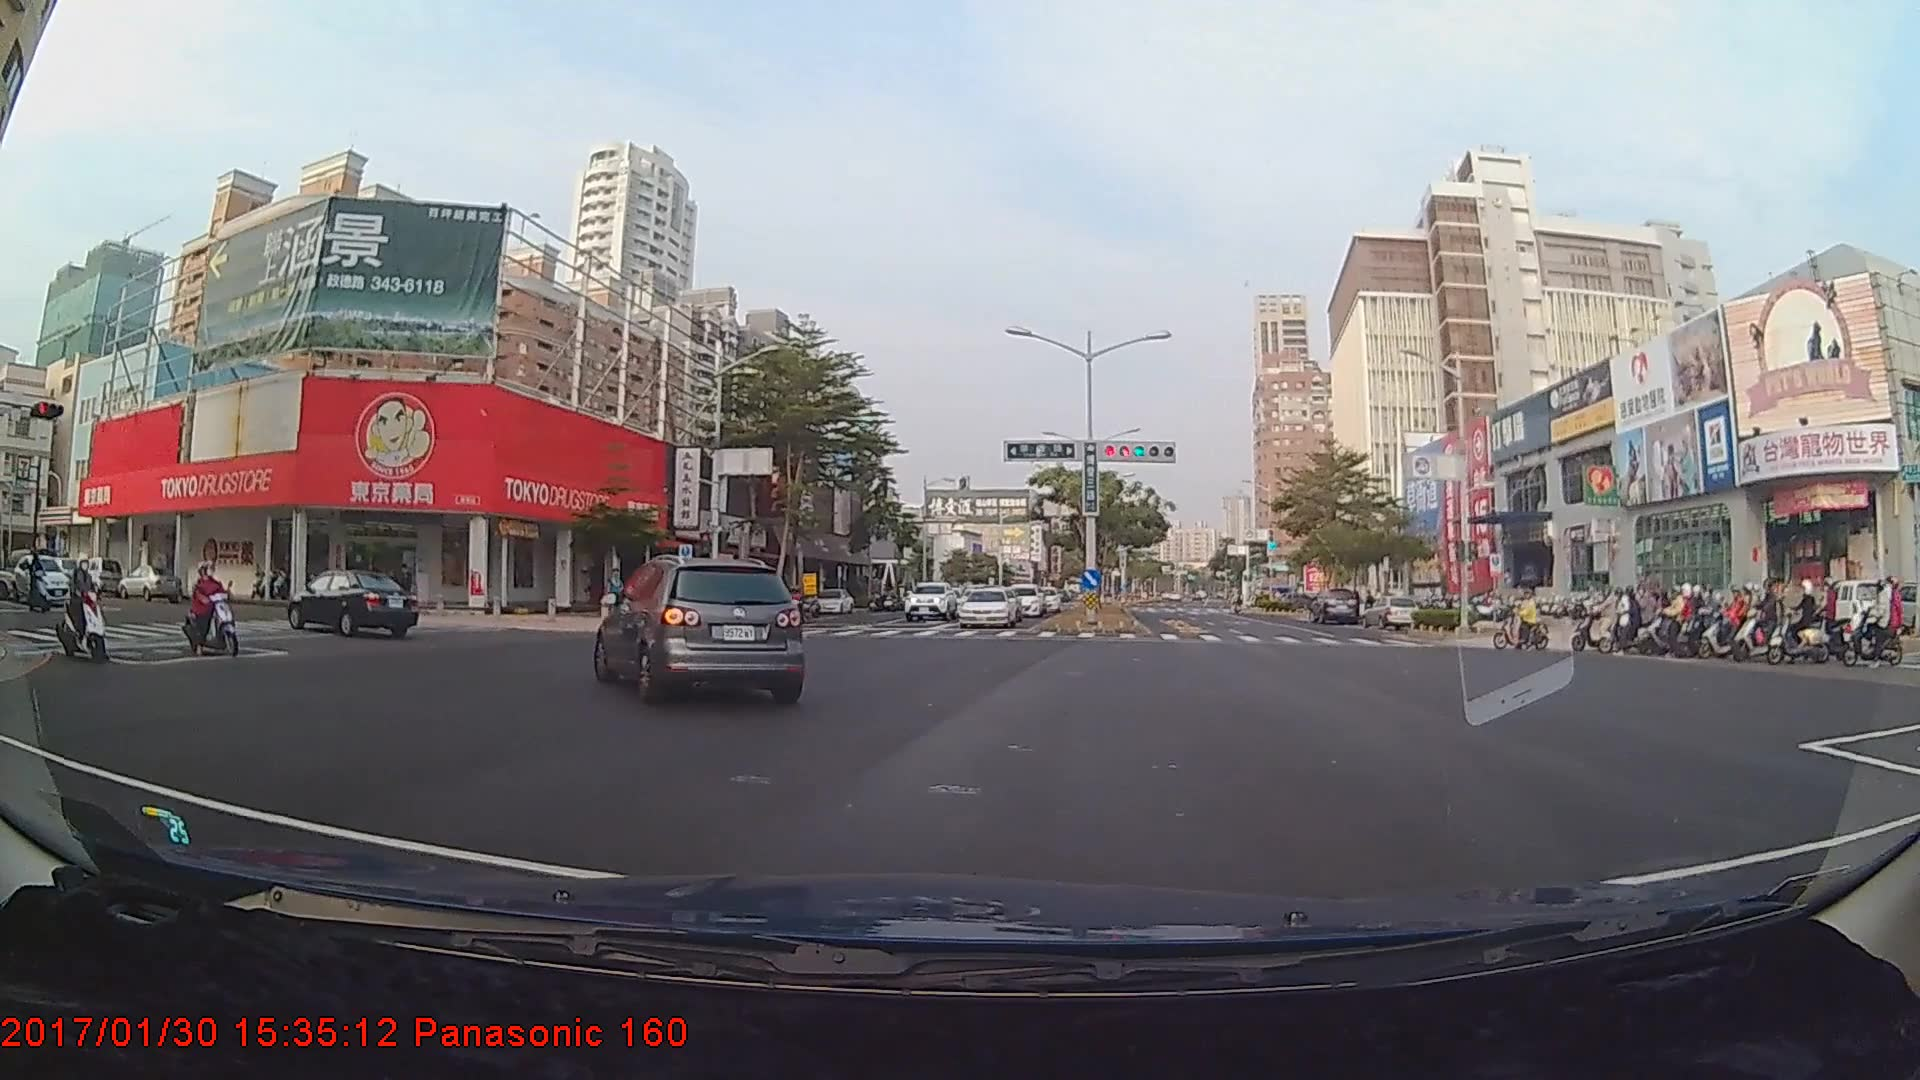rider: (53, 555, 113, 662), (1840, 578, 1908, 668), (178, 561, 241, 658), (1702, 584, 1773, 662), (1586, 595, 1659, 655), (1728, 584, 1786, 659), (1642, 586, 1700, 657), (1490, 585, 1552, 652), (1654, 592, 1702, 657)
vehicle: (597, 554, 801, 704), (288, 567, 419, 639), (12, 553, 72, 604), (955, 588, 1017, 629), (900, 580, 956, 620), (39, 555, 97, 593), (1306, 586, 1357, 622), (1003, 582, 1043, 617), (809, 587, 853, 614)
